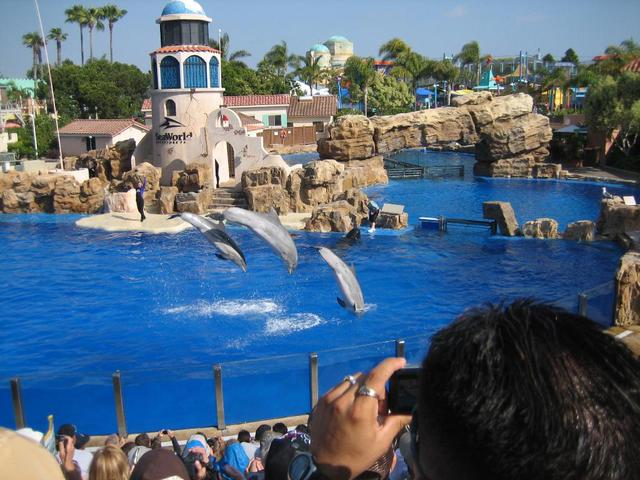dolphin: (207, 190, 308, 278)
